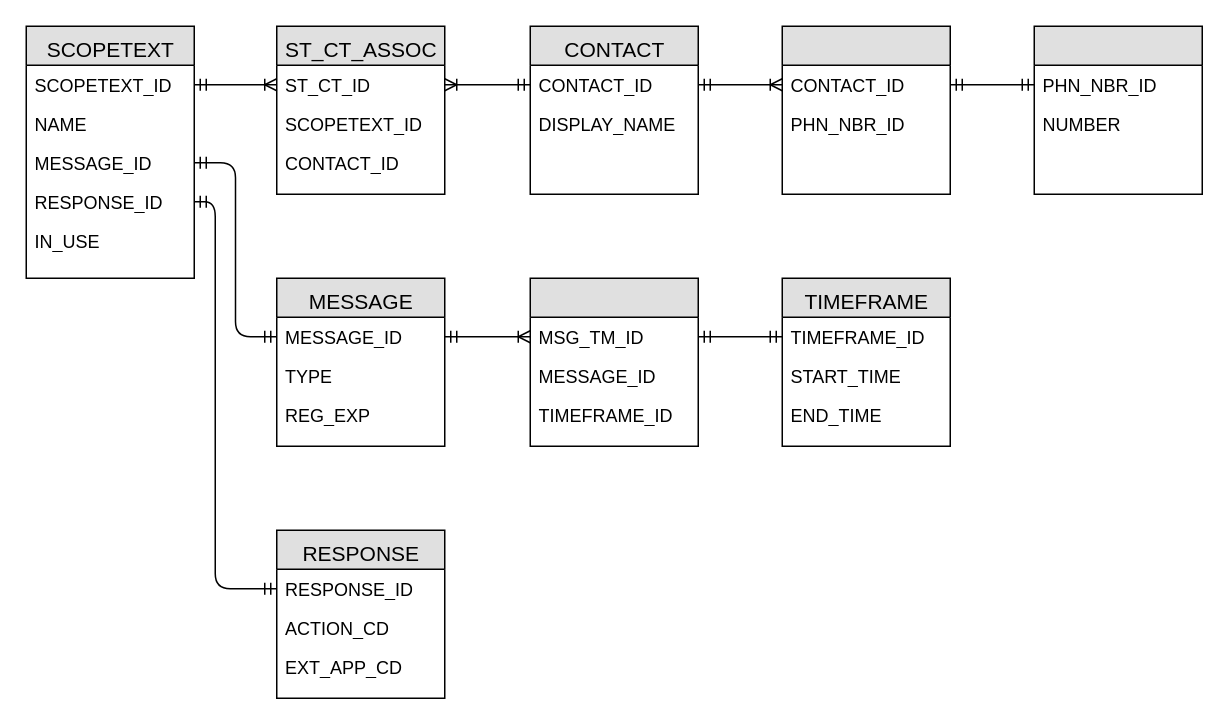
Image size: 1229x725. Some labels were removed from this diagram. The shapes that lost their labels are listed below. From the top down, each one's box as (x1, y1, x2, y2) in pixels, then its label:
(781, 25, 950, 194): CT_PHN_NBR_ASSOC
(1033, 25, 1202, 194): PHONE_NBR
(529, 277, 698, 446): MSG_TM_ASSOC
